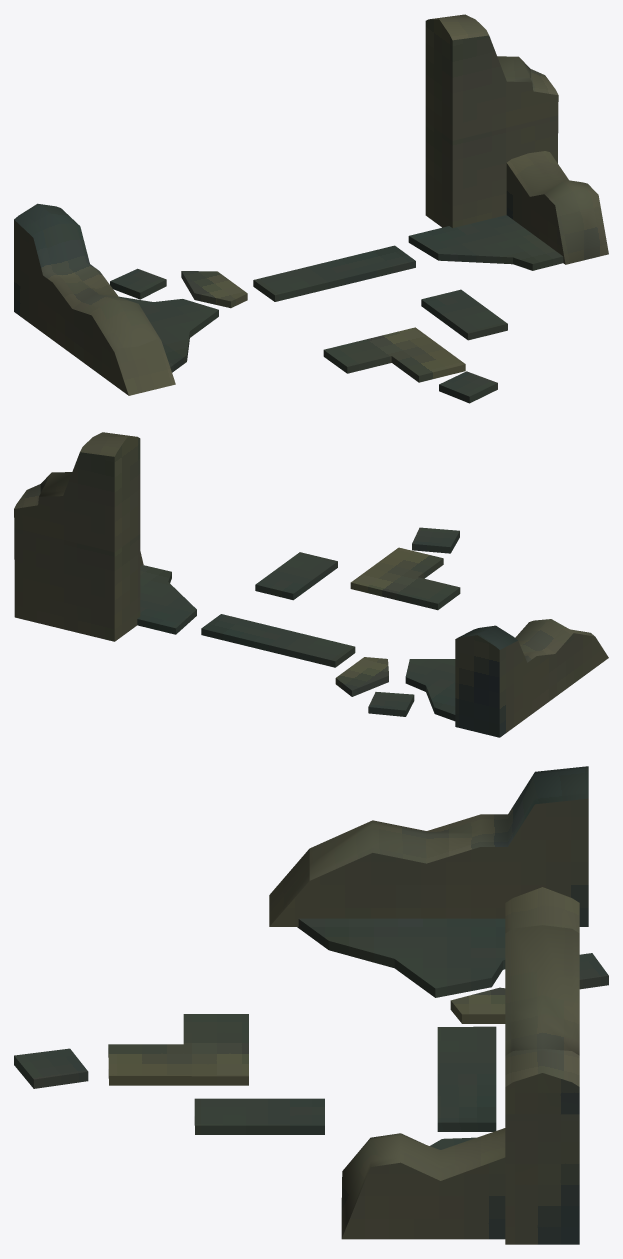
The model's file is ruins_03.FBX.
The picture shows the model from 3 angles, top to bottom: view 1: azimuth 30°, elevation 25°; view 2: azimuth 150°, elevation 25°; view 3: azimuth 270°, elevation 25°; orthographic projection. The views are drawn at different scales.
Parts seen in each view (by area): view 1: Box026; view 2: Box026; view 3: Box026.
Boxes of the visible parts, x1,y1,x2,y2 form: Box026: (14, 14, 608, 403); Box026: (14, 432, 608, 737); Box026: (14, 766, 608, 1244).
Bounding box in the file's own units: 732 × 280 × 528.
